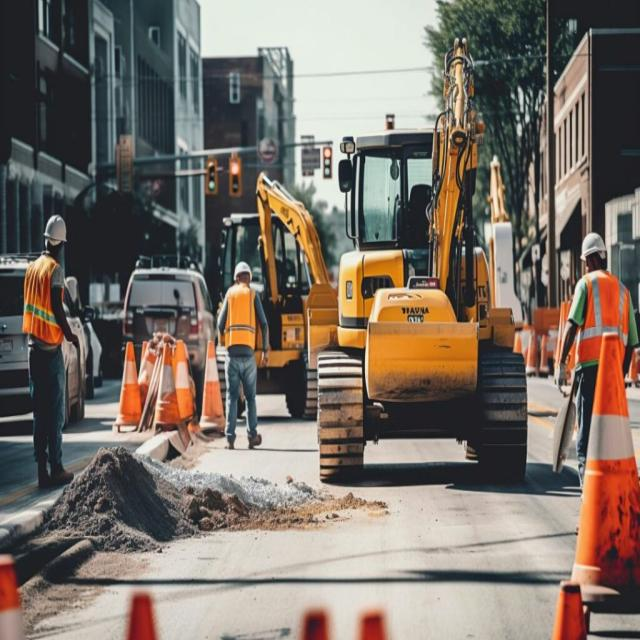helmet: (574, 232, 616, 265), (38, 212, 70, 247), (233, 260, 256, 284)
vest: (567, 268, 635, 376), (29, 256, 70, 346), (220, 286, 256, 350)
